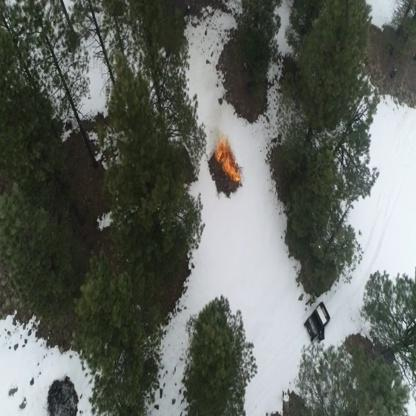Fire: (213, 134, 241, 184)
